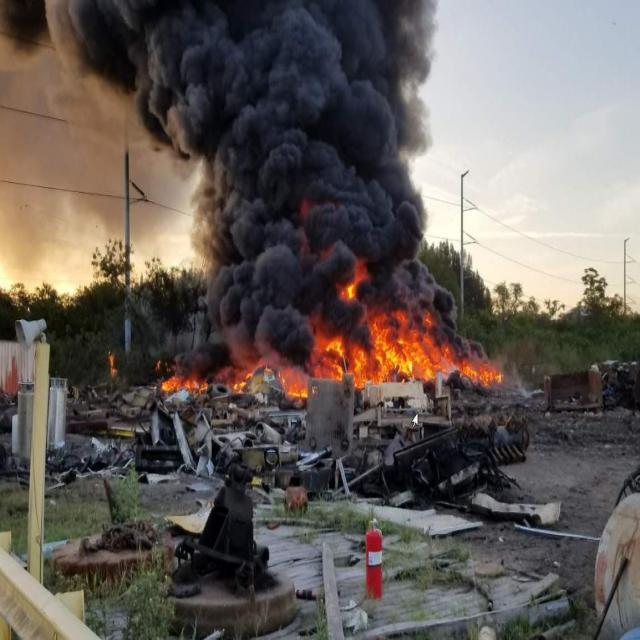Fire: (140, 300, 516, 408), (327, 254, 373, 310), (108, 356, 119, 377)
